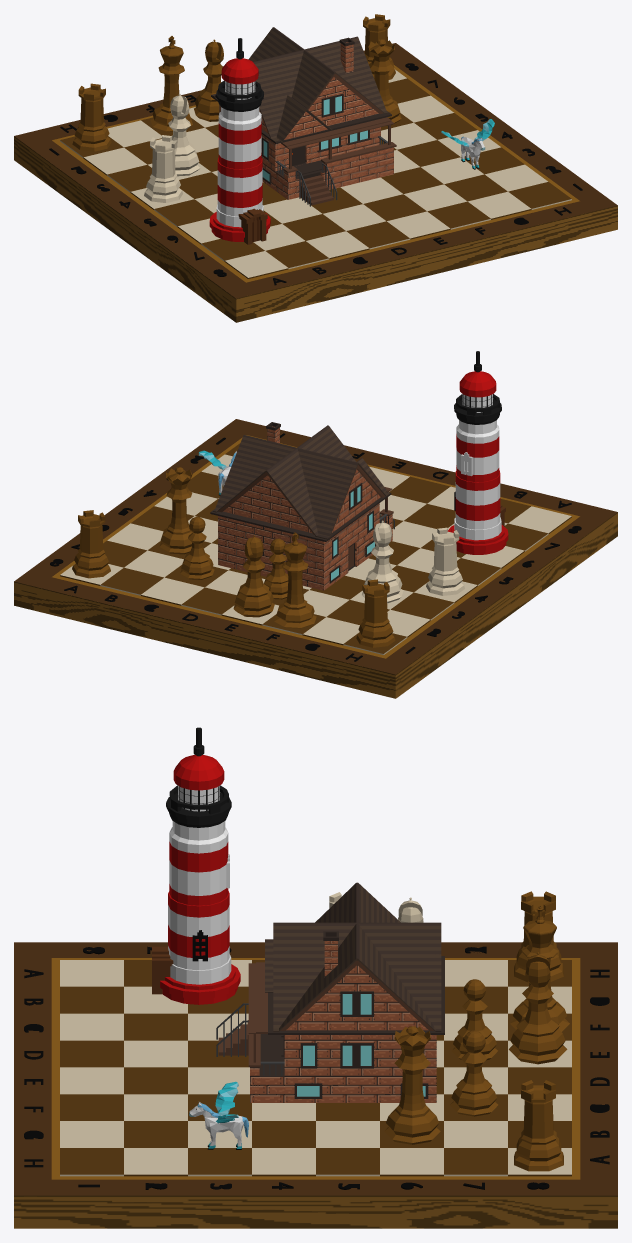
3 views of the same model, one above another, from view 1: azimuth 30°, elevation 25°; view 2: azimuth 150°, elevation 25°; view 3: azimuth 270°, elevation 25° (orthographic). The views are drawn at different scales.
Visible parts, largest first — view 1: Cube.002, Cube.469, OBJRANDOM_LIGHTHOUSE, ANIMAL_PEGASO; view 2: Cube.002, Cube.469, OBJRANDOM_LIGHTHOUSE; view 3: Cube.002, Cube.469, OBJRANDOM_LIGHTHOUSE, ANIMAL_PEGASO.
Part boxes in pixels (left/top/right/bottom): Cube.002: left=14, top=14, right=617, bottom=322; Cube.469: left=211, top=27, right=396, bottom=206; OBJRANDOM_LIGHTHOUSE: left=209, top=38, right=270, bottom=244; ANIMAL_PEGASO: left=441, top=119, right=494, bottom=169; Cube.002: left=14, top=419, right=617, bottom=698; Cube.469: left=210, top=422, right=394, bottom=590; OBJRANDOM_LIGHTHOUSE: left=447, top=351, right=508, bottom=554; Cube.002: left=14, top=891, right=617, bottom=1228; Cube.469: left=216, top=882, right=444, bottom=1102; OBJRANDOM_LIGHTHOUSE: left=152, top=727, right=240, bottom=1004; ANIMAL_PEGASO: left=189, top=1081, right=248, bottom=1149.
Bounding box in the file's own units: 3981 × 2258 × 4012.
30 materials, 4 textured.
